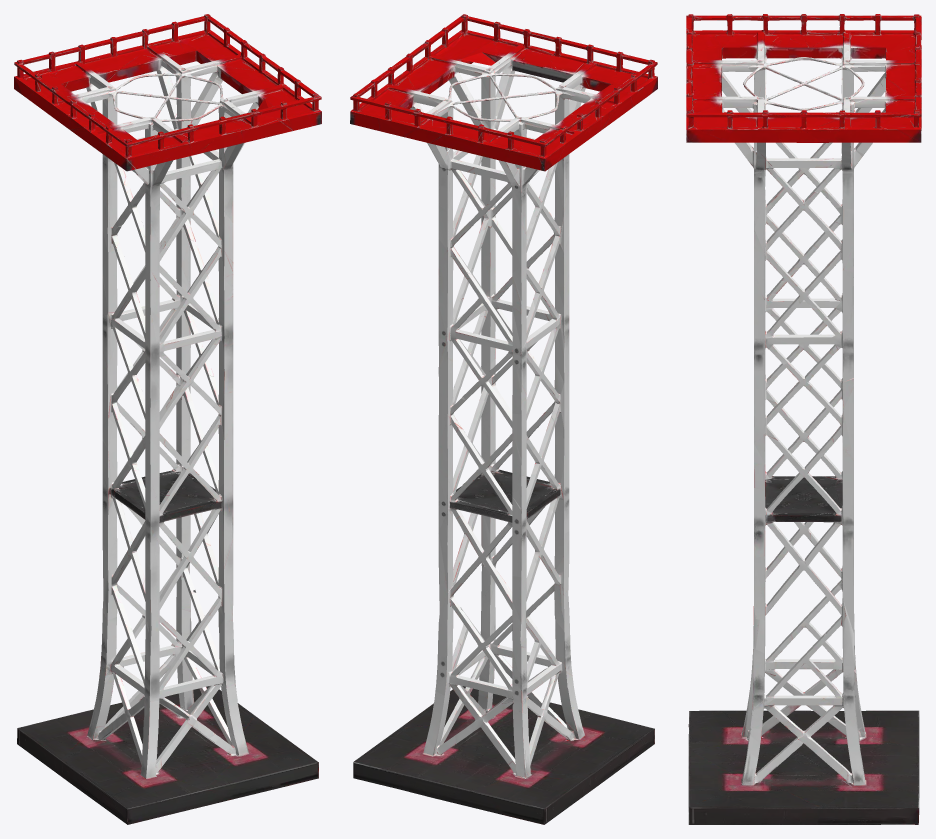
The model's file is truss_pylon.glb.
The picture shows the model from 3 angles, left to right: view 1: azimuth 30°, elevation 25°; view 2: azimuth 150°, elevation 25°; view 3: azimuth 270°, elevation 25°; orthographic projection. The views are drawn at different scales.
Bounding box in the file's own units: 0.5682 × 1.9 × 0.5677.
Materials: 1 (1 with a texture image).
